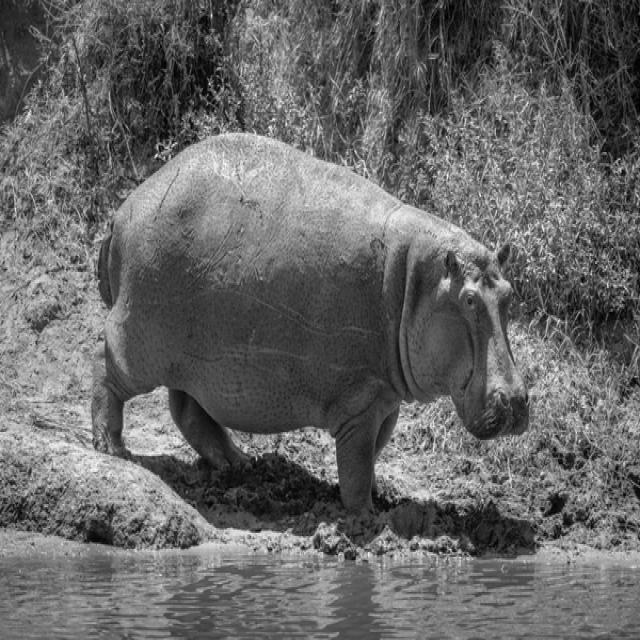Animal: (90, 123, 529, 534)
